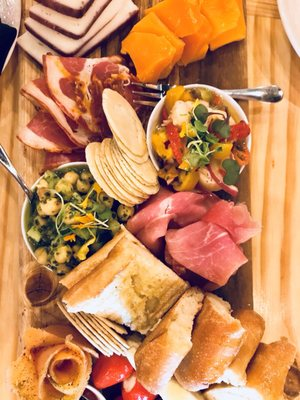burger: (19, 217, 135, 363)
